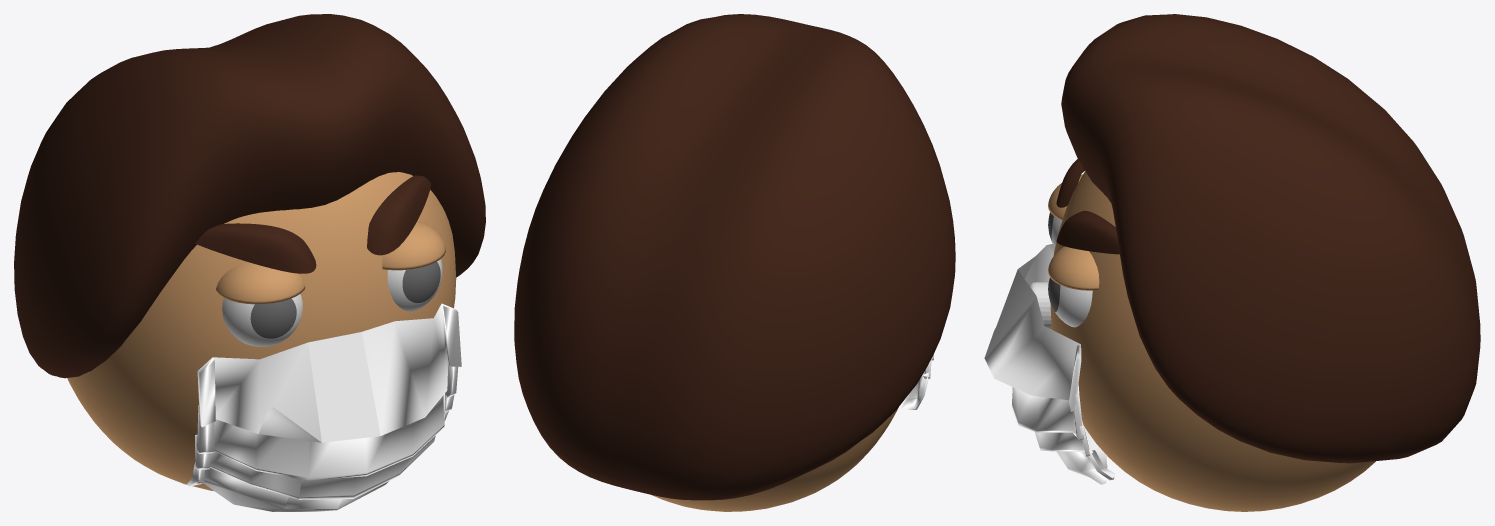
File: Courier_Head.fbx
3 renders of one model, left to right at view 1: azimuth 30°, elevation 25°; view 2: azimuth 150°, elevation 25°; view 3: azimuth 270°, elevation 25°, orthographic. The views are drawn at different scales.
Parts seen in each view (by area): view 1: Cube.016, Plane.001, Cube.014, Cube.019, Sphere.002, Sphere; view 2: Cube.016, Cube.014, Plane.001; view 3: Cube.016, Cube.014, Plane.001, Cube.019, Sphere, Sphere.002, Cube.015.
Part boxes in pixels (box(x1,y1,x2,y2)): Cube.016: box(14, 14, 485, 378); Plane.001: box(187, 303, 461, 511); Cube.014: box(67, 172, 456, 490); Cube.019: box(195, 175, 430, 273); Sphere.002: box(222, 259, 442, 346); Sphere: box(215, 221, 445, 304); Cube.016: box(514, 14, 955, 500); Cube.014: box(652, 407, 898, 511); Plane.001: box(897, 354, 933, 410); Cube.016: box(1061, 14, 1480, 463); Cube.014: box(1050, 171, 1375, 511); Plane.001: box(984, 244, 1115, 484); Cube.019: box(1056, 159, 1119, 254); Sphere: box(1048, 174, 1099, 290); Sphere.002: box(1048, 212, 1092, 327); Cube.015: box(1029, 282, 1051, 329).
Size of the model in its own units: 152 by 164 by 168.
